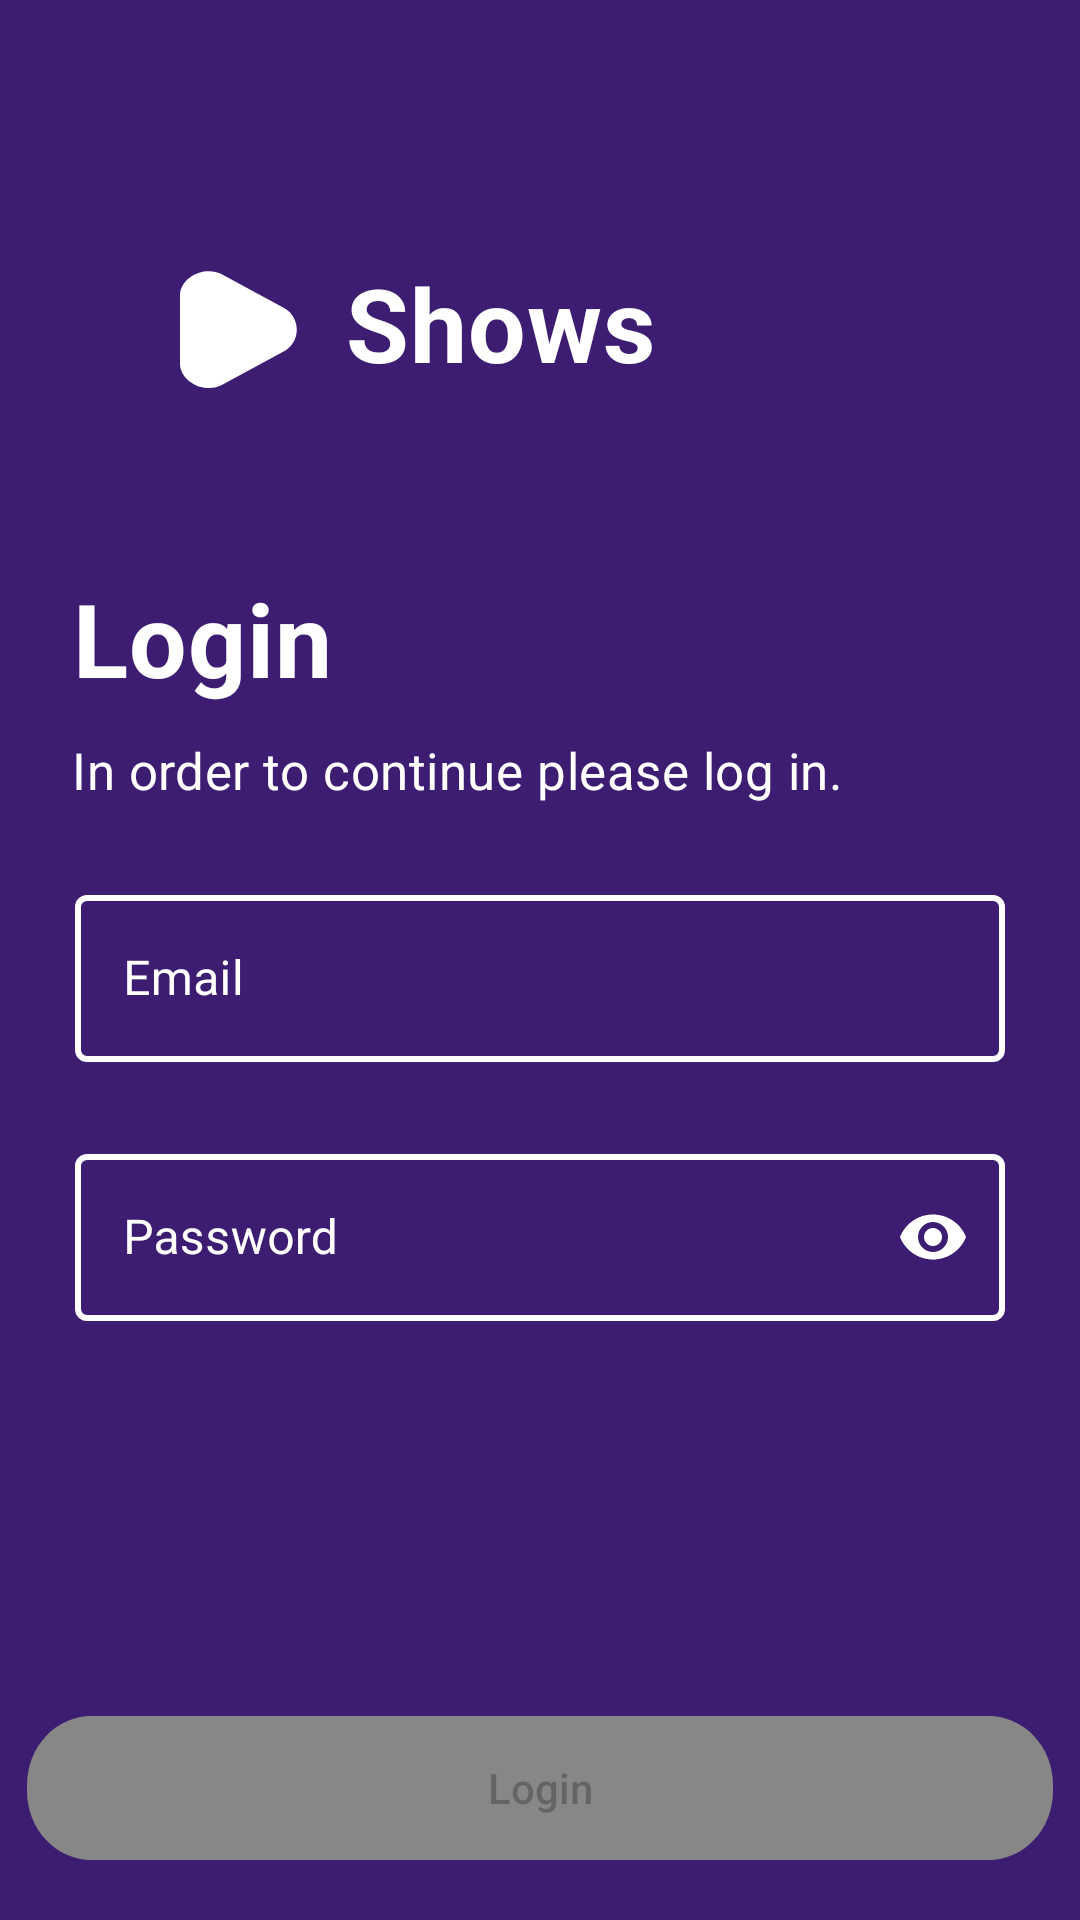

Screen size 1080*1920. Icon name, then its box in pixels as [x1, y1, x2, y2]:
triangle: [180, 271, 297, 388]
